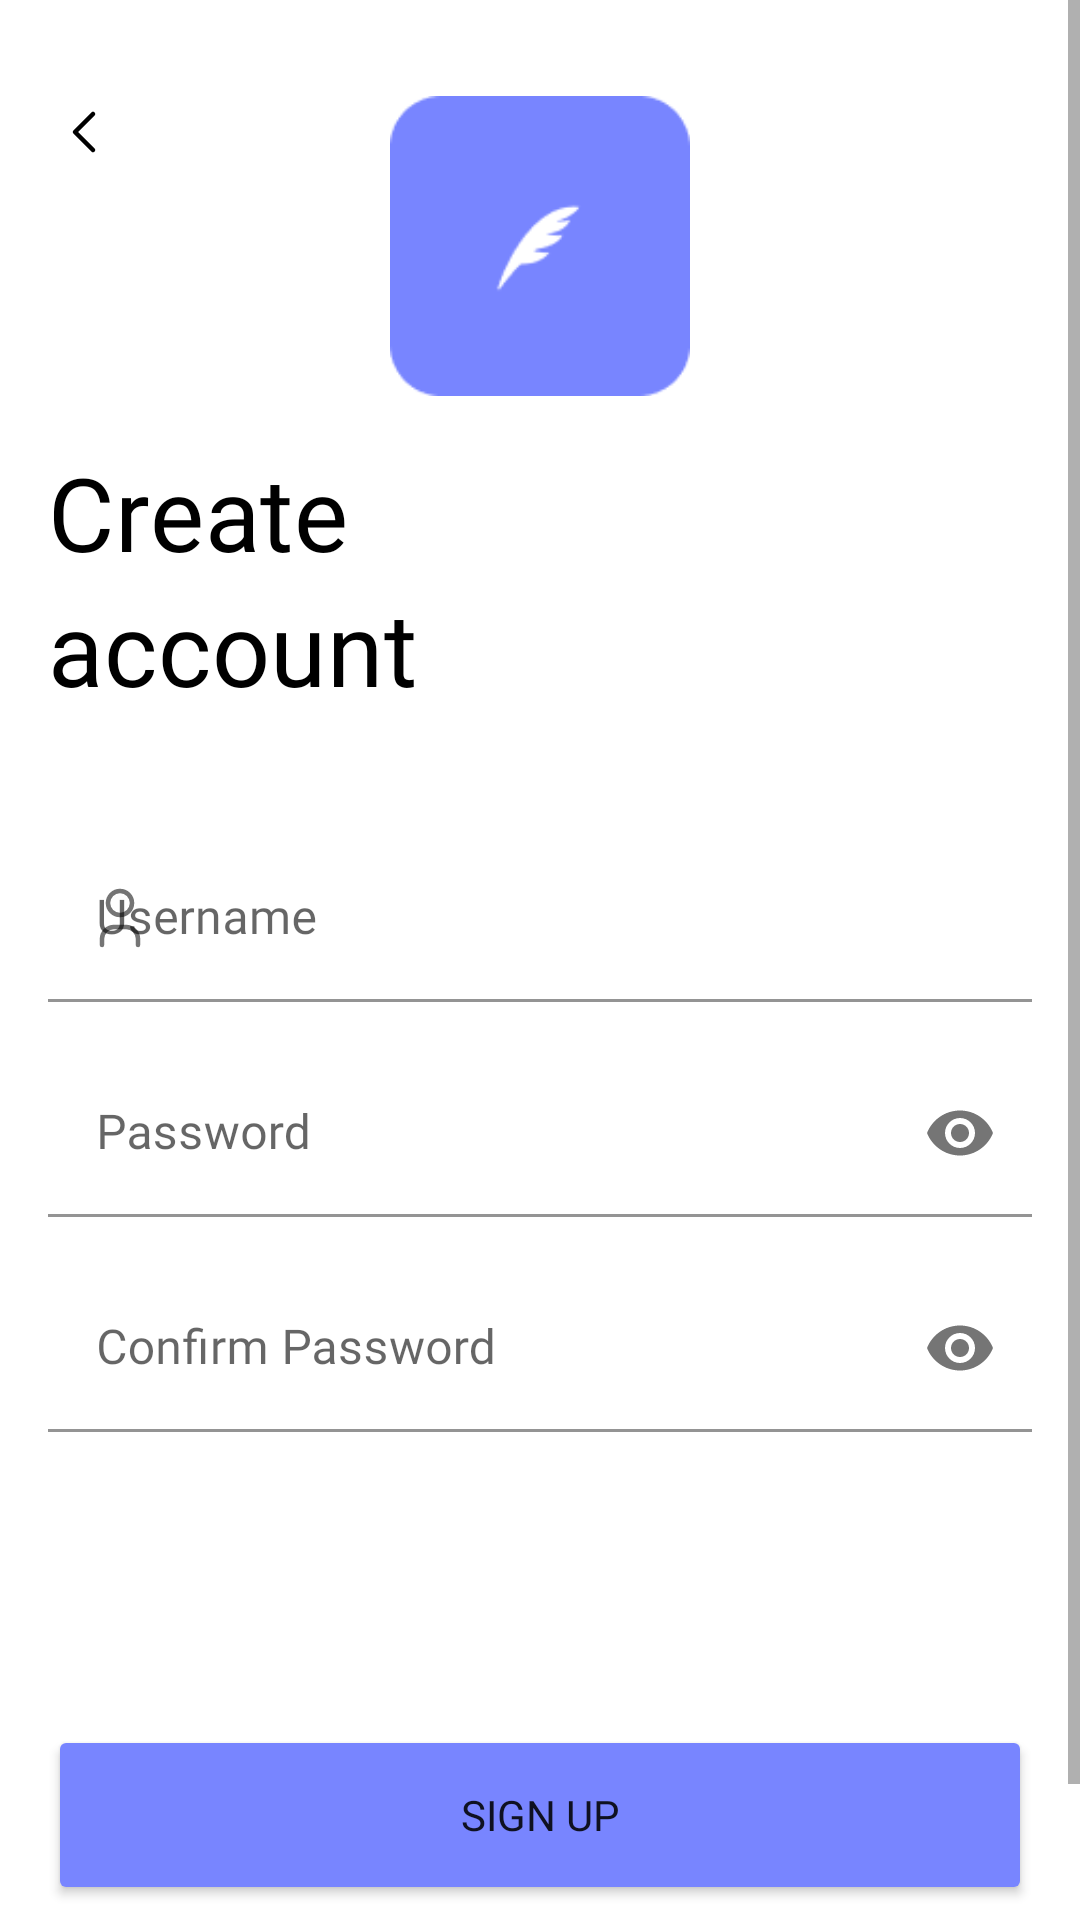

Where icons sit on this 1080x1920 app screen, as [x1=x1, y1=y1, x2=x2, y2=y2]:
back: [x1=72, y1=111, x2=96, y2=153]
